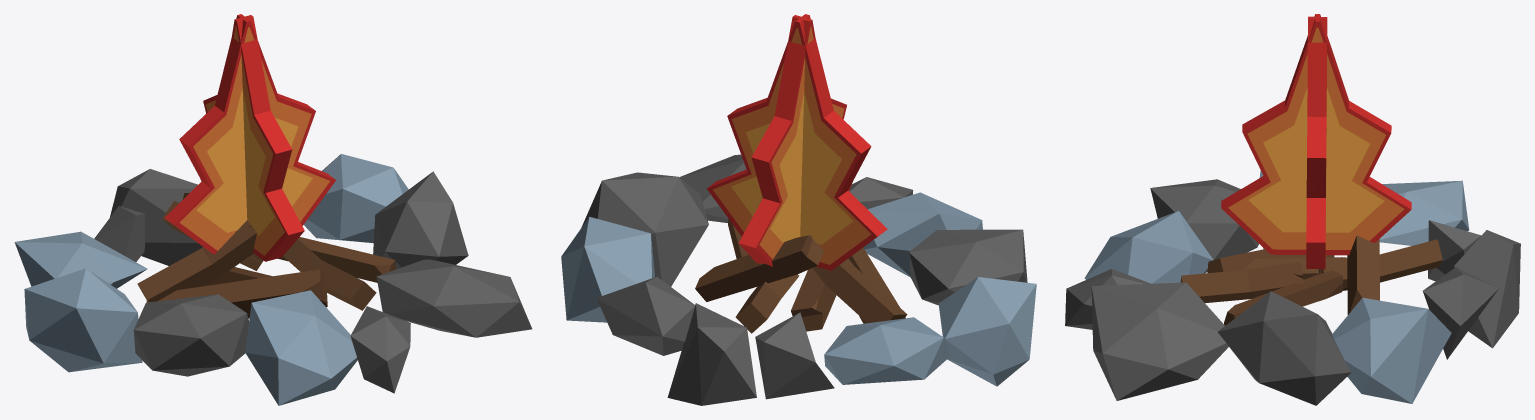
The model's file is Fire Wood & Stone.gltf.
3 views of the same model, side by side, from view 1: azimuth 30°, elevation 25°; view 2: azimuth 150°, elevation 25°; view 3: azimuth 270°, elevation 25° (orthographic). The views are drawn at different scales.
Visible parts, largest first — view 1: Fire Wood & Stone; view 2: Fire Wood & Stone; view 3: Fire Wood & Stone.
Boxes of the visible parts, x1,y1,x2,y2 form: Fire Wood & Stone: (14,14,532,405); Fire Wood & Stone: (561,14,1036,405); Fire Wood & Stone: (1065,14,1520,405).
Size of the model in its own units: 0.762 by 0.528 by 0.6971.
1 material, 1 textured.
